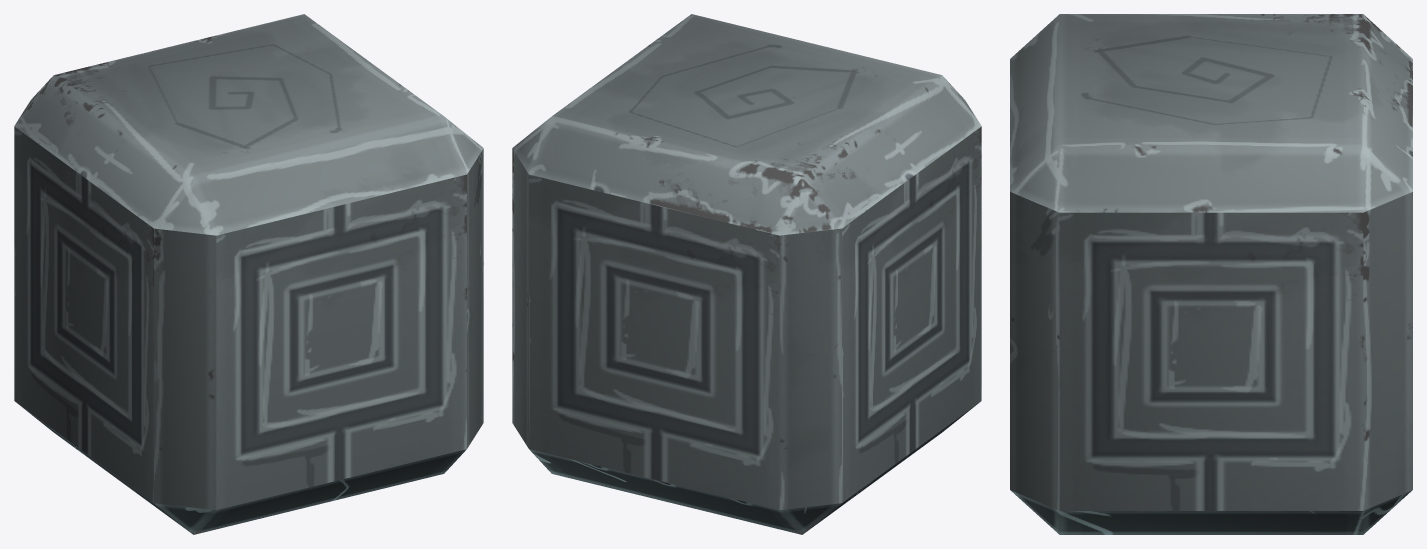
Rendered from puzzle_box_square.FBX.
The picture shows the model from 3 angles, left to right: view 1: azimuth 30°, elevation 25°; view 2: azimuth 150°, elevation 25°; view 3: azimuth 270°, elevation 25°; orthographic projection. The views are drawn at different scales.
Visible parts, largest first — view 1: puzzle_box_square; view 2: puzzle_box_square; view 3: puzzle_box_square.
Boxes of the visible parts, box(x1,y1,x2,y2) form: puzzle_box_square: box(14, 14, 483, 534); puzzle_box_square: box(512, 14, 981, 534); puzzle_box_square: box(1010, 14, 1412, 534).
Bounding box in the file's own units: 23.32 × 24.16 × 22.72.
1 material, 1 textured.
